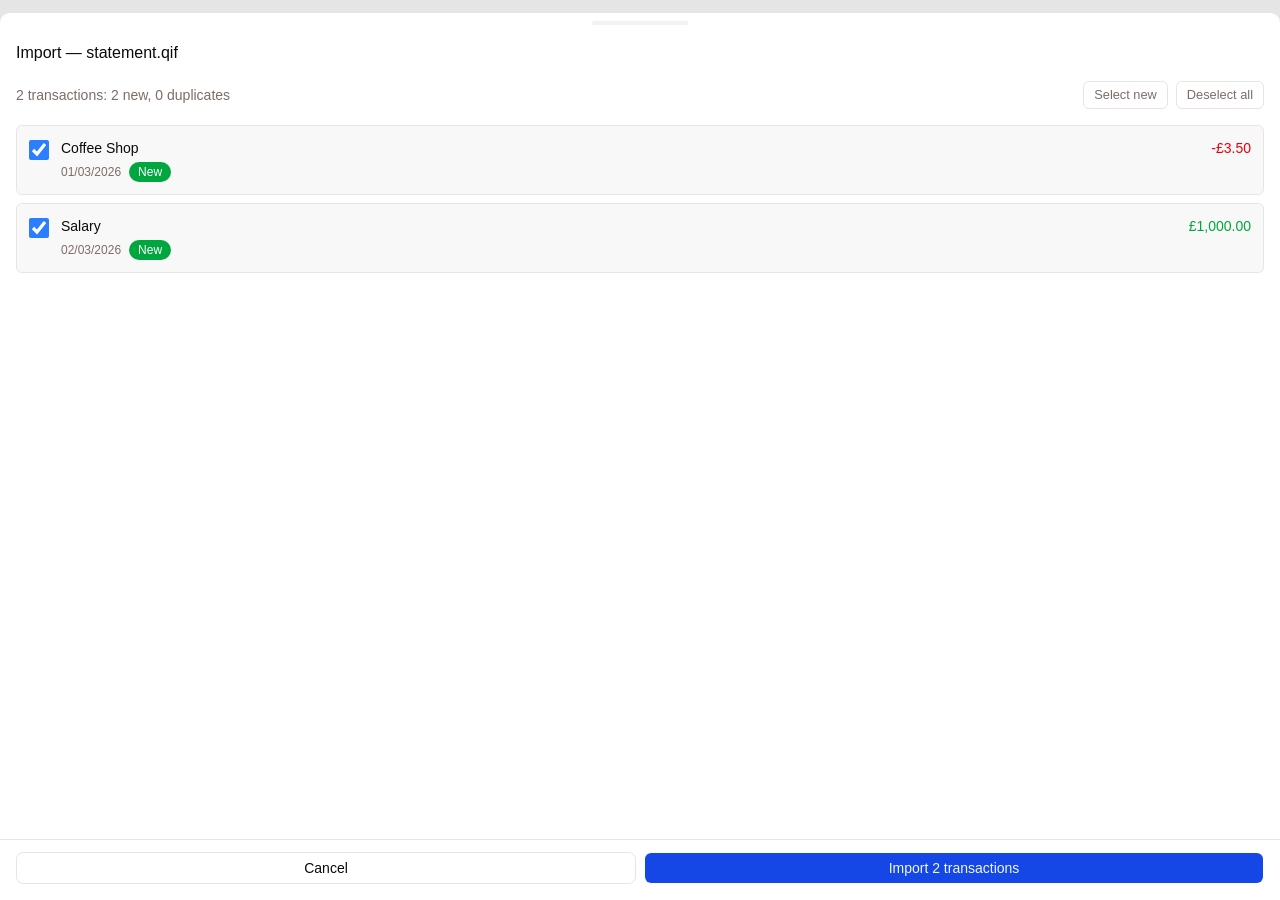
ImportDialog (phone) › keeps the dialog and shows an error when an import fails midway
Step 1. Click the button "Import 2 transactions" → (954, 868), box [644,852,1264,884]
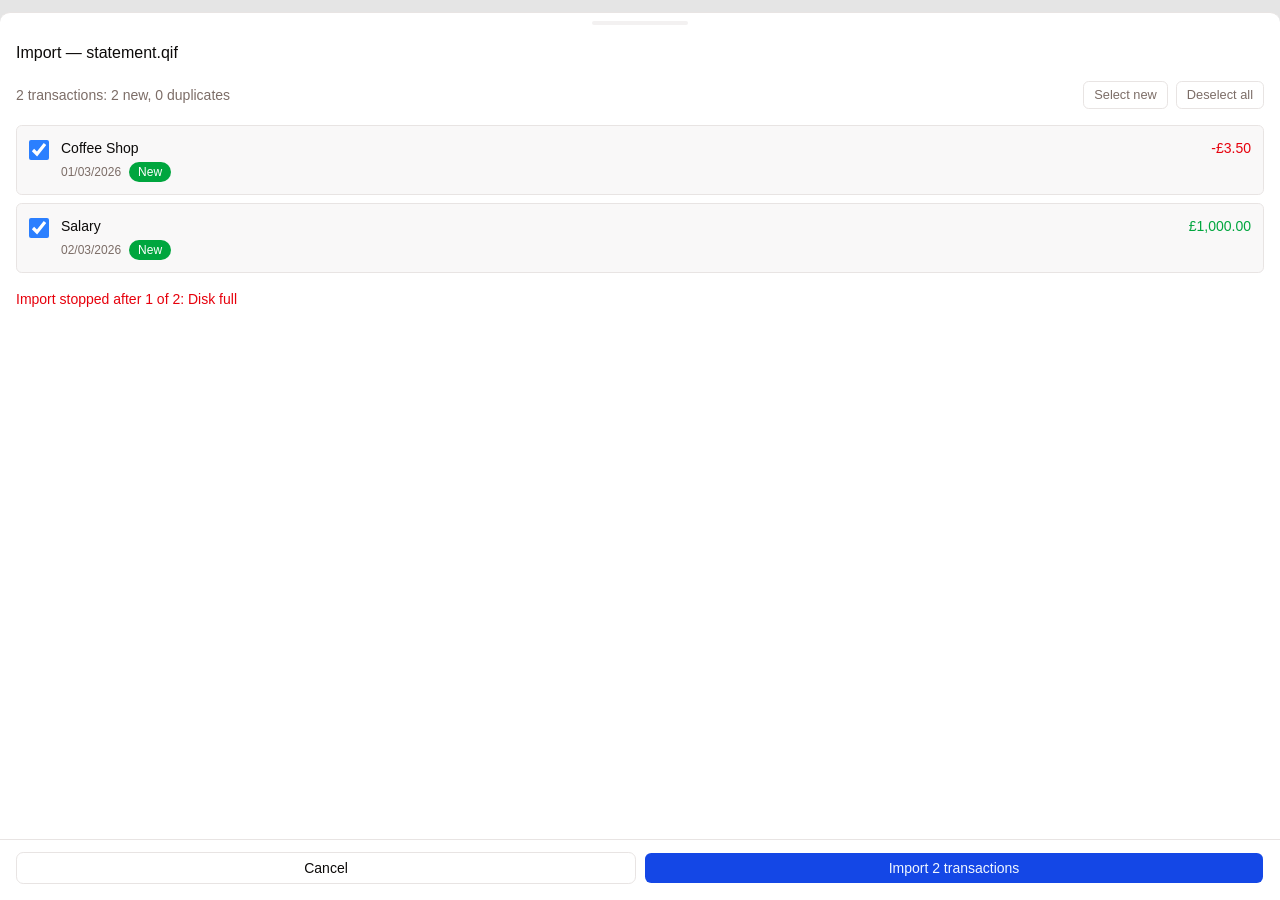
Expected: the button "Cancel" is enabled, [16,852,636,884]
Expected: the message reads "Import stopped after 1 of 2: Disk full", [16,291,237,307]
